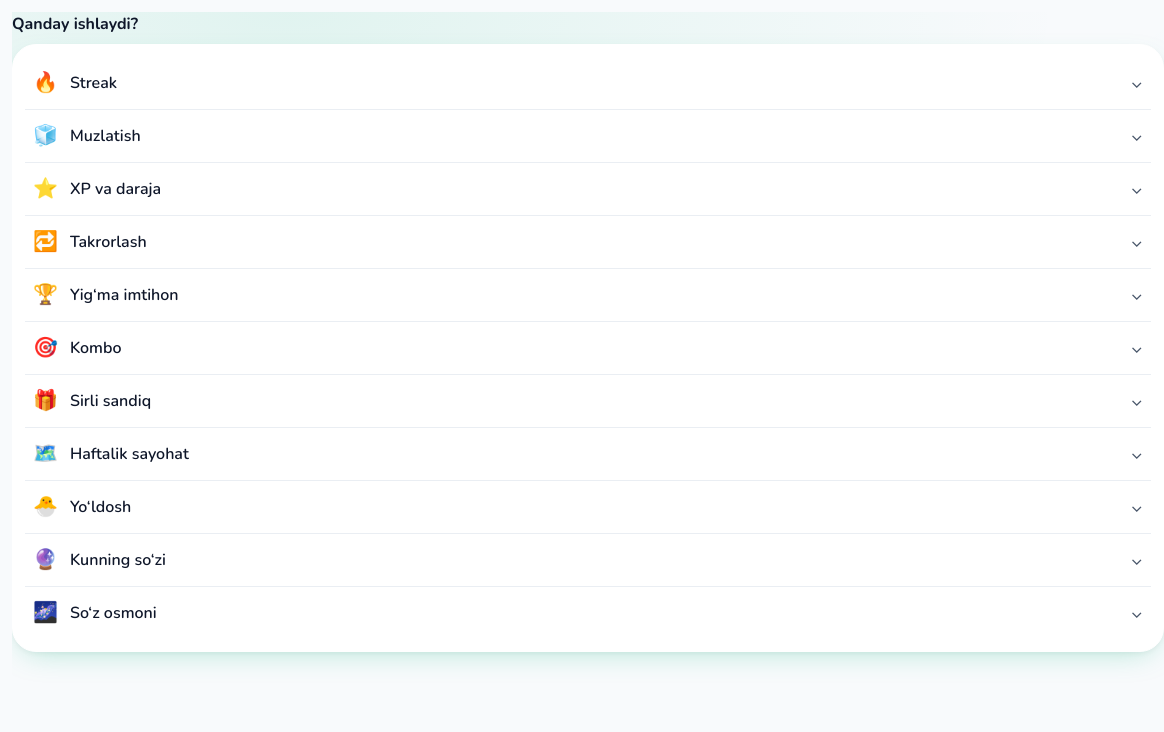
HowItWorks › atamalar yopiq turadi, bosilganda tushuntirish ochiladi
This screenshot has width=1164, height=732.
Click the button "🧊 Muzlatish ⌄". click: click(105, 136)
box: [25,110,1151,162]
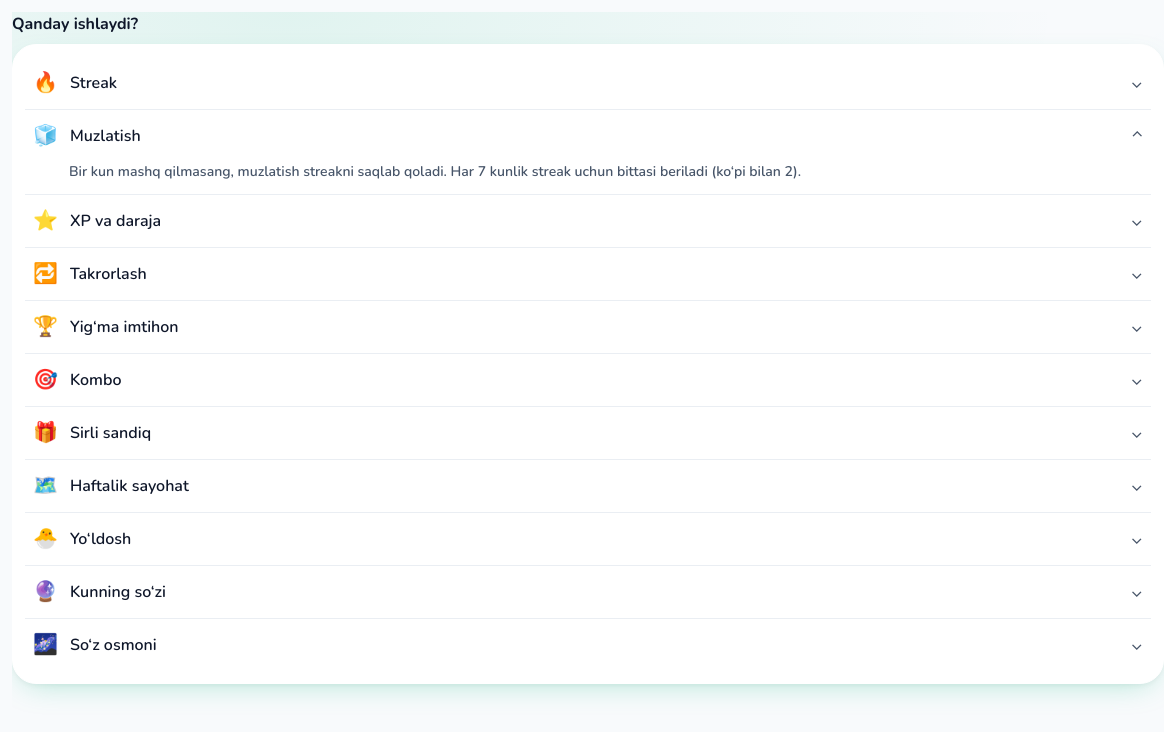
Expected: the text with test id "how-text" shows "streakni saqlab qoladi", [69,162,801,181]
Expected: the button "🧊 Muzlatish ⌄" is expanded, [25,110,1151,162]
